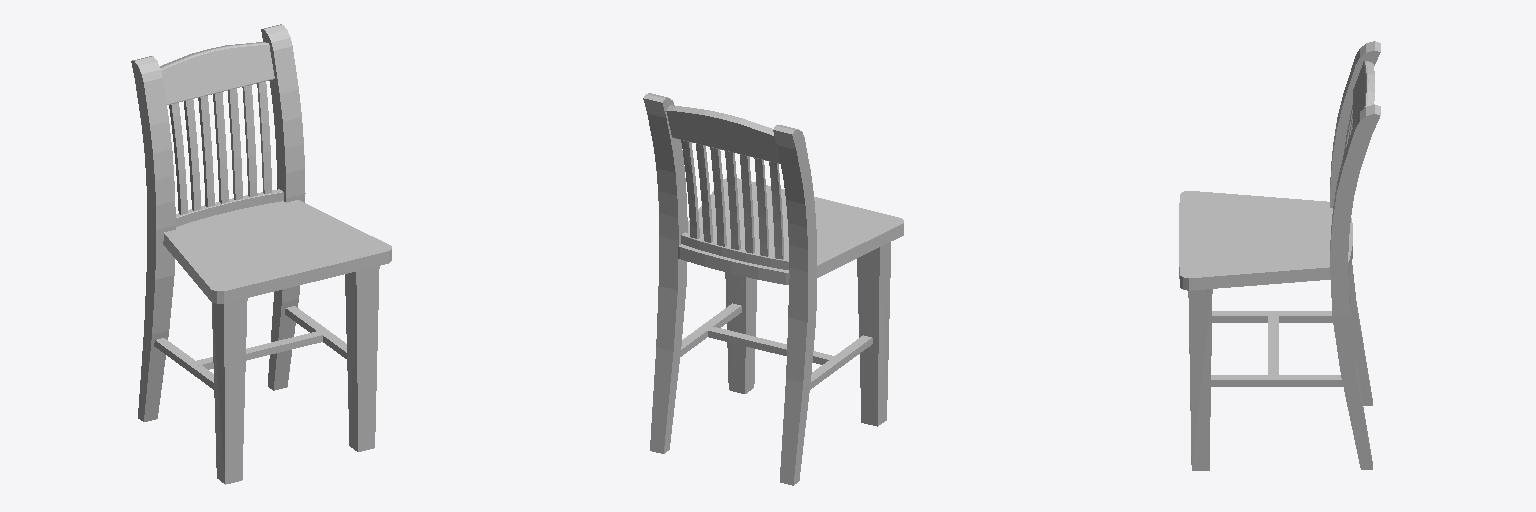
Rendered from silla.obj.
3 views of the same model, side by side, from view 1: azimuth 30°, elevation 25°; view 2: azimuth 150°, elevation 25°; view 3: azimuth 270°, elevation 25° (orthographic).
Visible parts, largest first — view 1: Nojka_LP4_Detached01; view 2: Nojka_LP4_Detached01; view 3: Nojka_LP4_Detached01.
Boxes of the visible parts, <box> form: Nojka_LP4_Detached01: <box>131,24,391,484</box>; Nojka_LP4_Detached01: <box>643,93,903,485</box>; Nojka_LP4_Detached01: <box>1179,41,1380,470</box>.
Bounding box in the file's own units: 11.2 × 21.22 × 10.84.